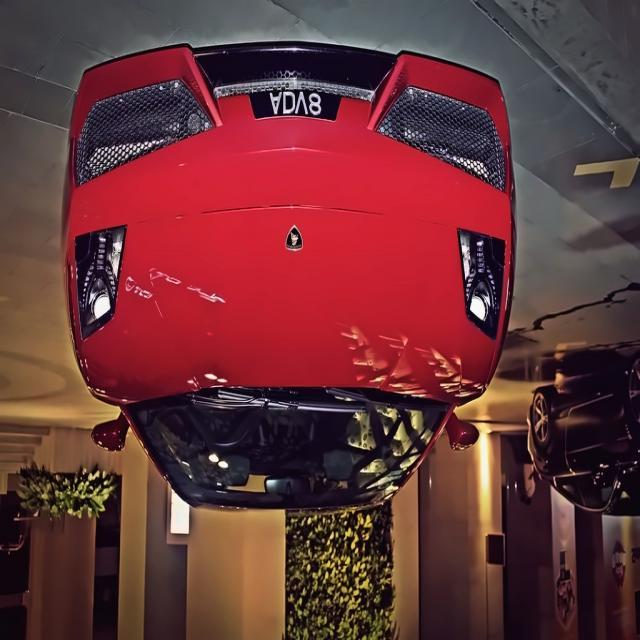car-plate: (248, 88, 340, 120)
